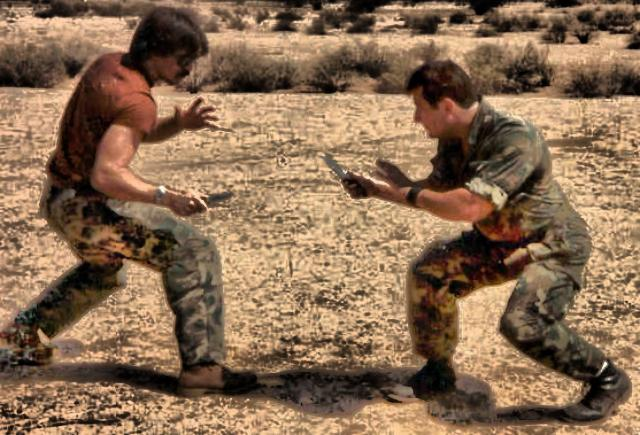knife: (309, 140, 365, 203), (168, 187, 236, 218)
